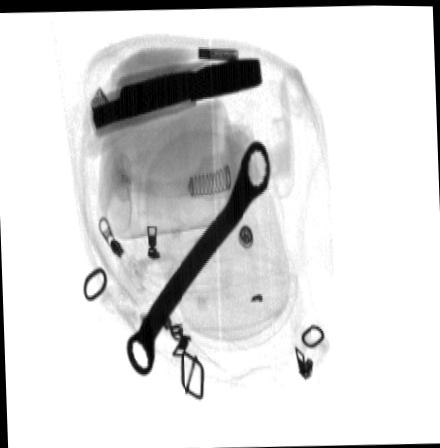Pliers: (91, 57, 263, 130)
Wrench: (126, 135, 270, 379)
